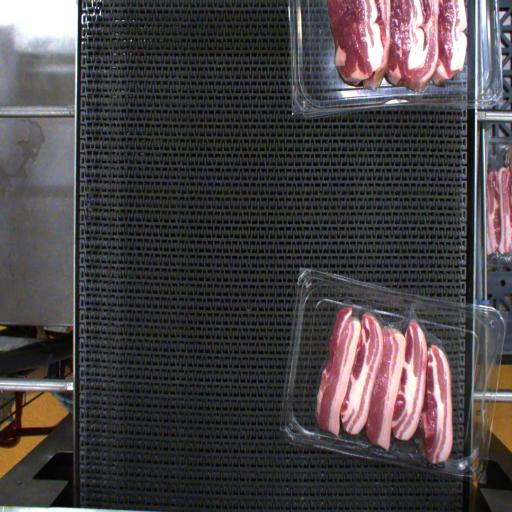packaging-error: (402, 301, 425, 320)
unsealed: (323, 288, 452, 358)
